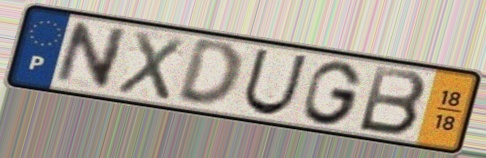B: (355, 63, 430, 139)
D: (173, 39, 244, 111)
G: (300, 58, 366, 127)
N: (51, 20, 132, 92)
U: (239, 46, 311, 117)
X: (112, 27, 188, 104)
